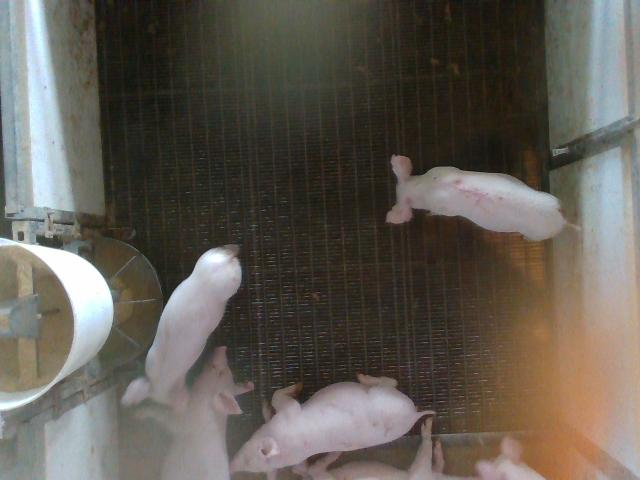pig-5: (386, 157, 570, 241)
